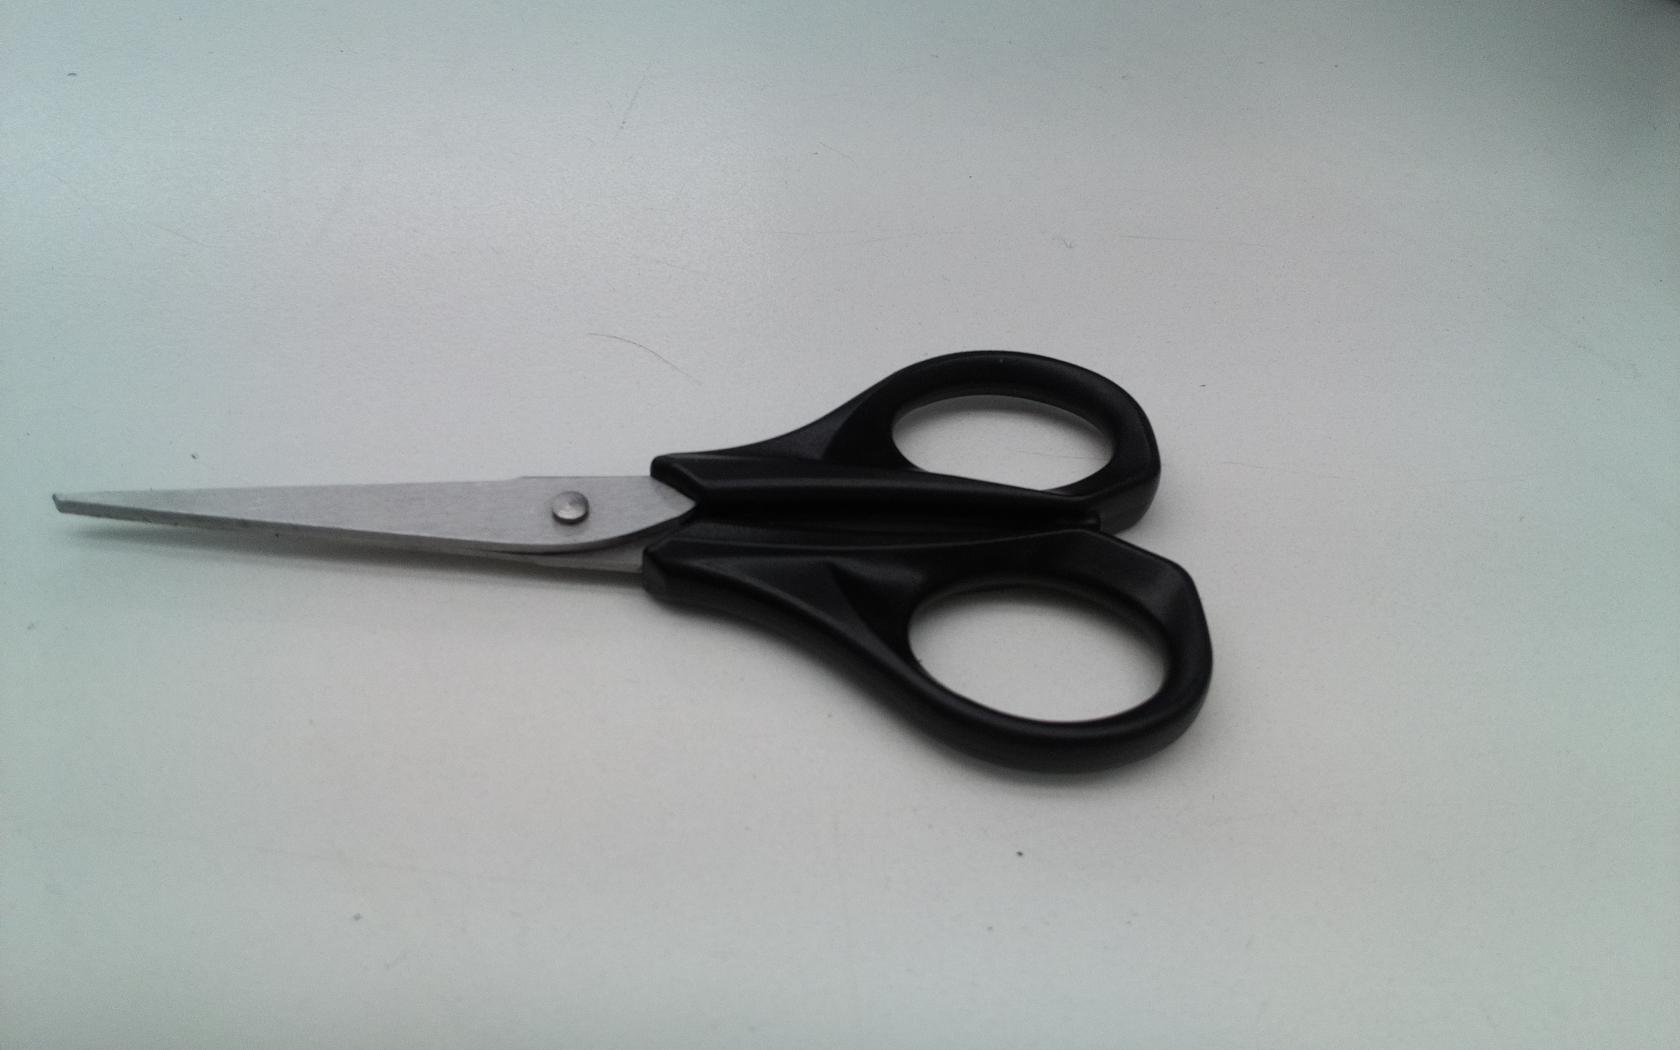scissors: (57, 339, 1247, 787)
